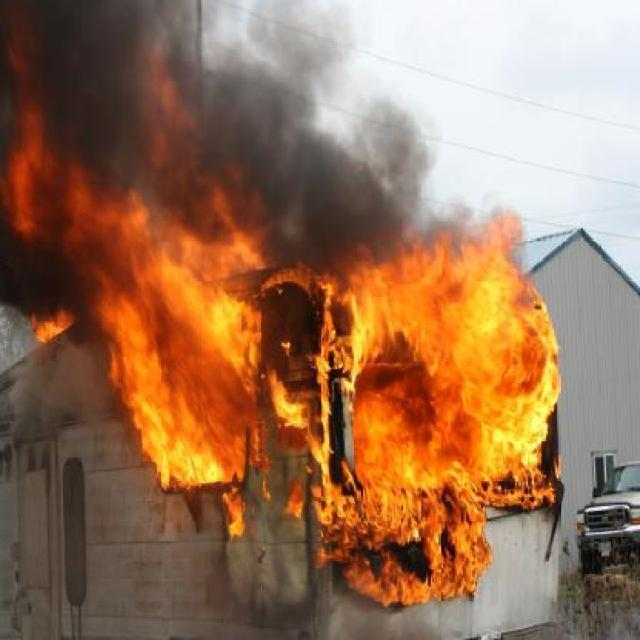Fire: (0, 34, 292, 546), (290, 202, 573, 612)
Smoke: (0, 0, 498, 313)
